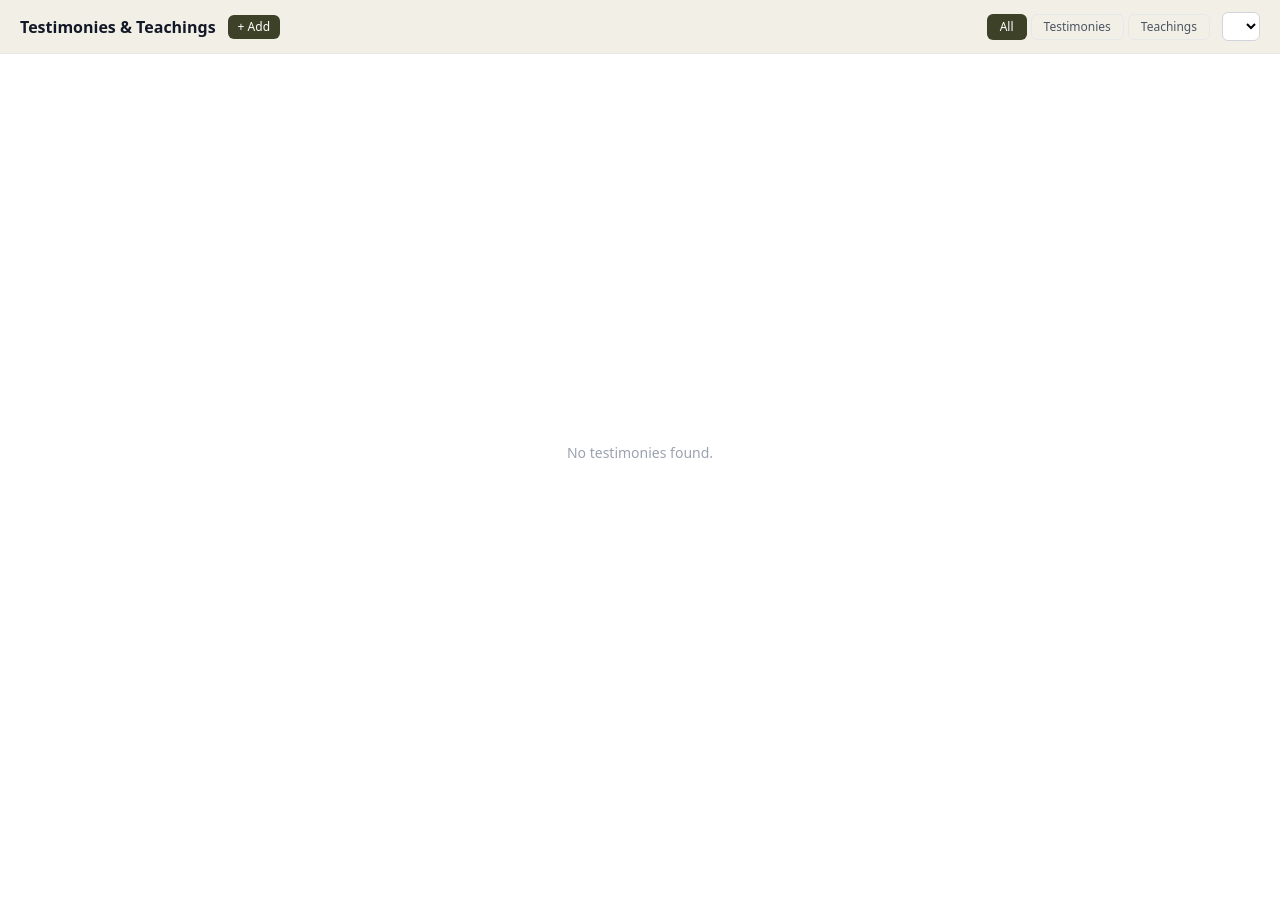
Test: Testimonies Kanban — + Add modal › closes modal on Cancel
The width and height of the screenshot is (1280, 900).
Click the button with test id "add-needed-item".
click(254, 26)  # box [228,14,280,38]
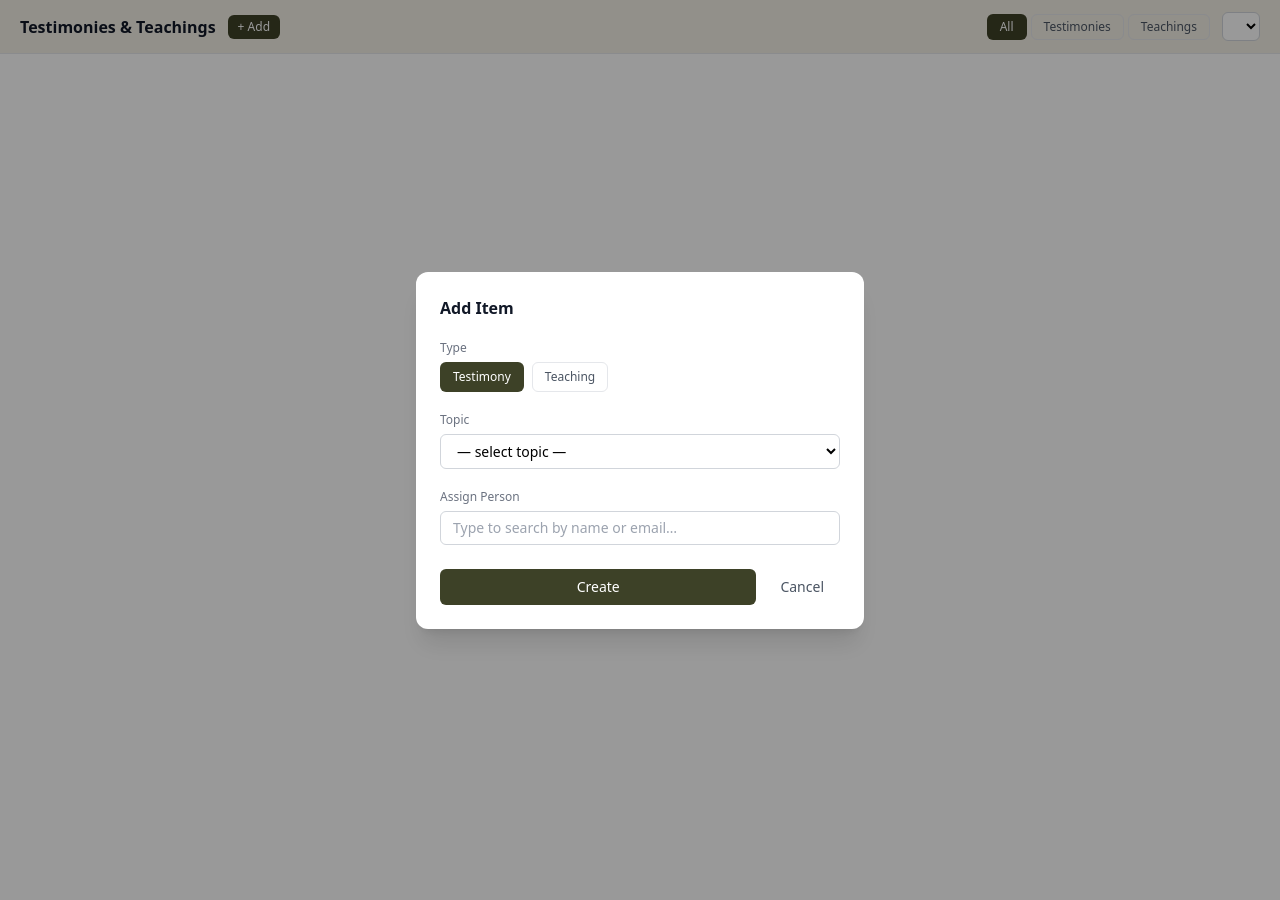
Result: the dialog is shown
Click the button "Cancel".
click(802, 586)  # box [764,568,840,604]
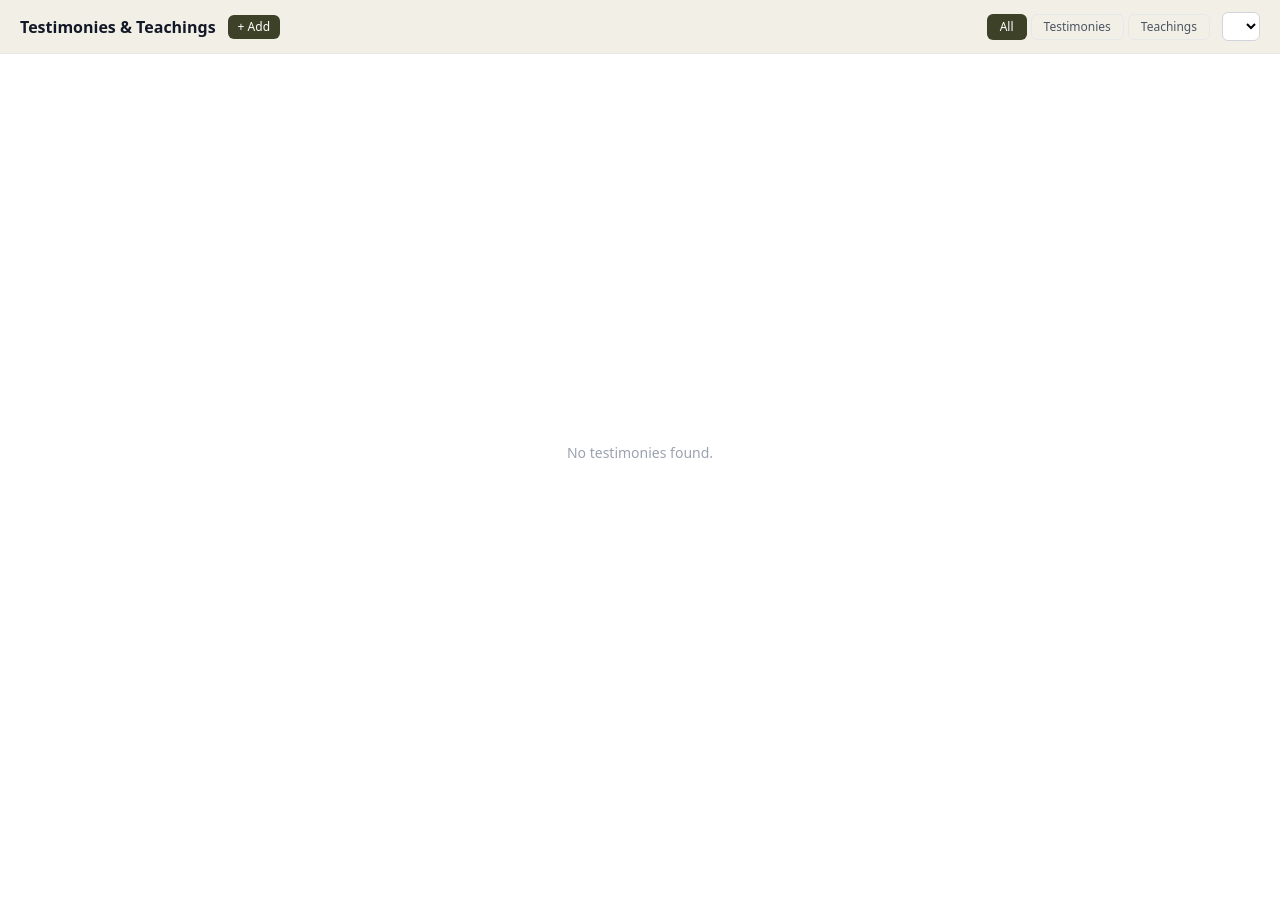
Result: the dialog is gone
